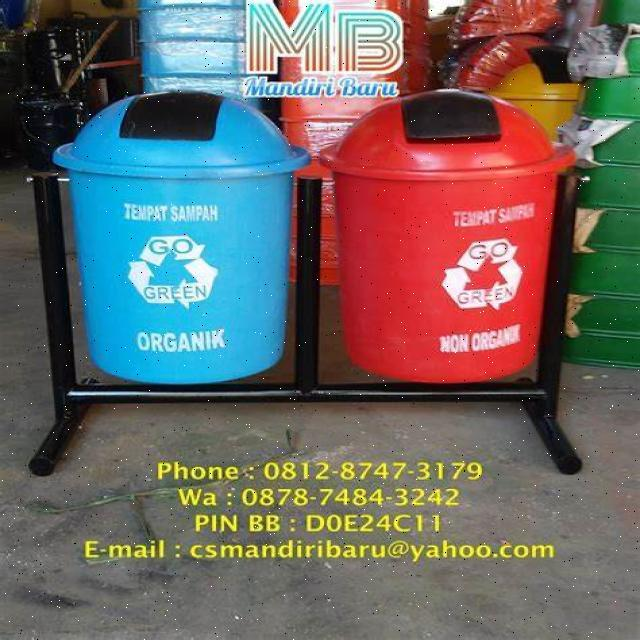garbage container: (18, 75, 320, 406), (319, 73, 609, 407)
